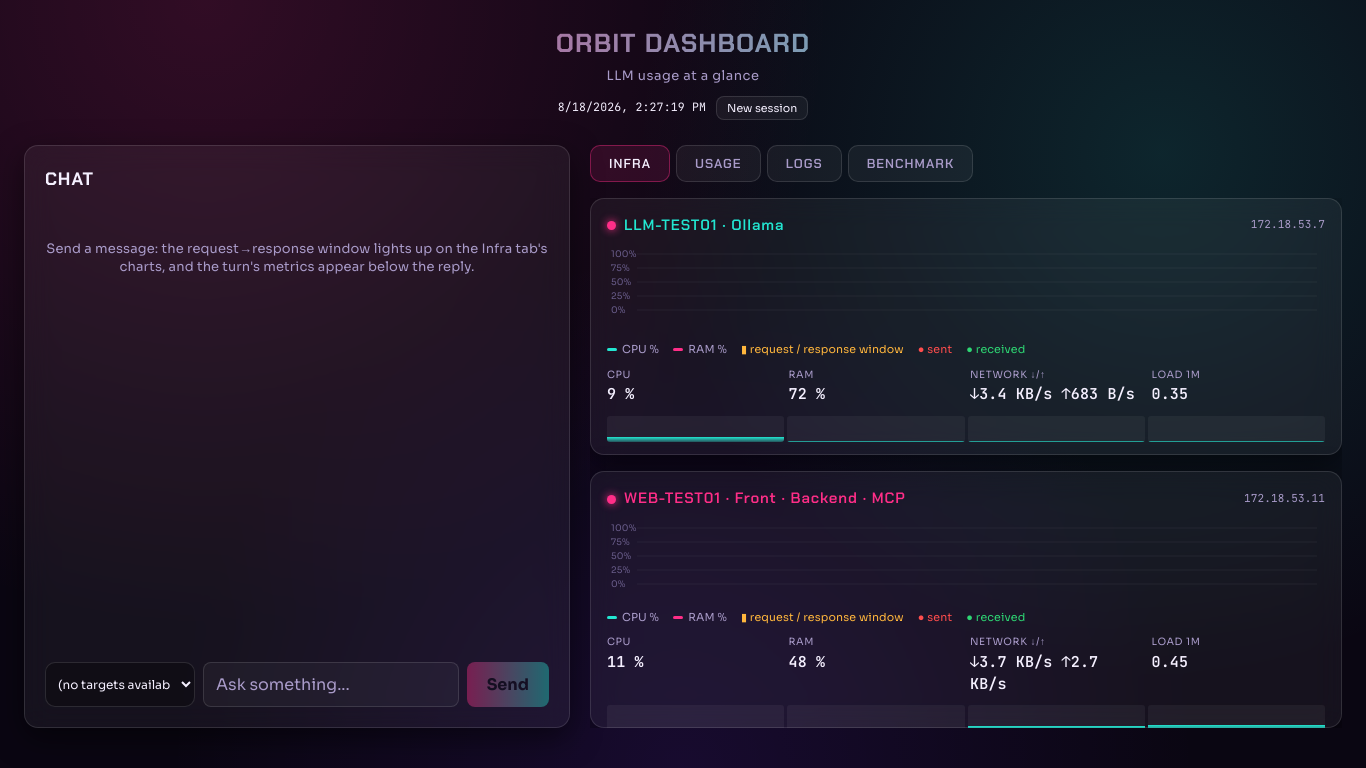
Scenario: App › bascule sur Usage sans démonter le chat
The image size is (1366, 768).
Expected: the text "LLM-TEST01 · Ollama" is shown, [607,214,784,236]
Click the tab "Usage" at (718, 163), box [676,144,761,182]
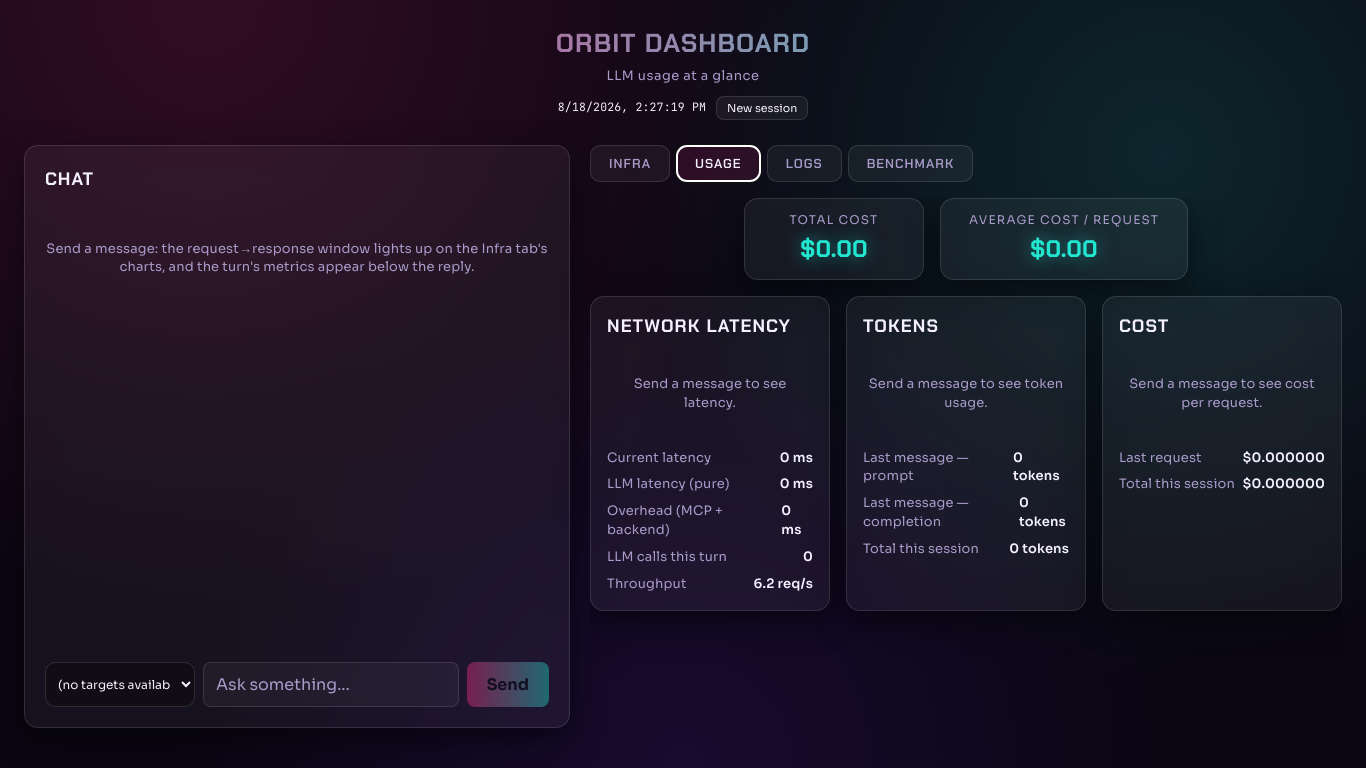
Expected: the element "Chat" is shown, [24,144,570,728]
Expected: the element "token usage" is shown, [846,296,1086,610]
Expected: the text "LLM-TEST01" is gone
